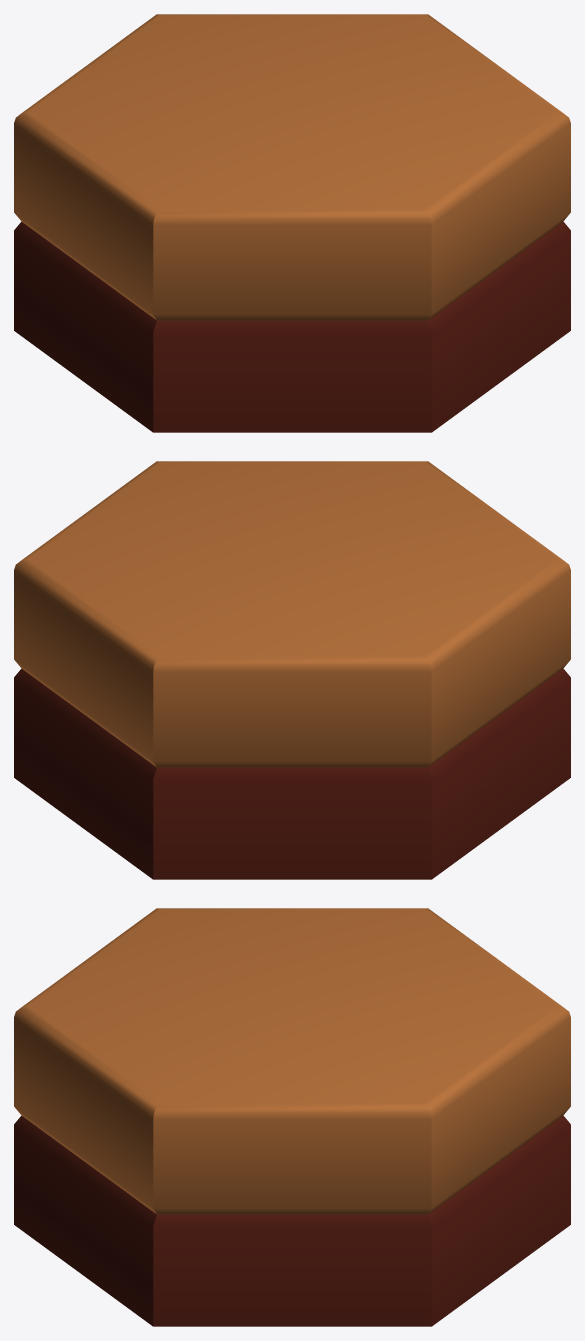
Rendered from kay_desertTile.glb.
3 renders of one model, top to bottom at view 1: azimuth 30°, elevation 25°; view 2: azimuth 150°, elevation 25°; view 3: azimuth 270°, elevation 25°, orthographic.
Visible parts, largest first — view 1: mergedBlocks(Clone); view 2: mergedBlocks(Clone); view 3: mergedBlocks(Clone).
Part boxes in pixels (x1,y1,x2,y2): mergedBlocks(Clone): (14,14,570,432); mergedBlocks(Clone): (14,461,570,879); mergedBlocks(Clone): (14,908,570,1326).
Bounding box in the file's own units: 2 × 1 × 2.31.
